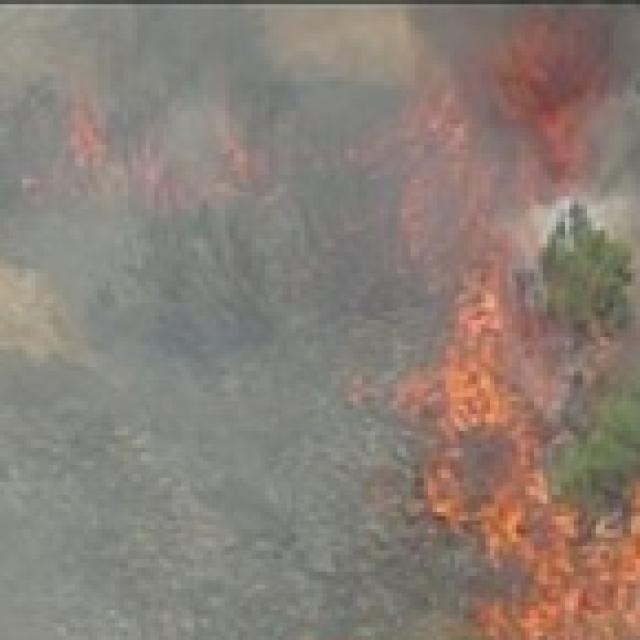Fire: (344, 260, 640, 640), (342, 23, 524, 260), (482, 0, 630, 223)
Smoke: (0, 0, 474, 639)
